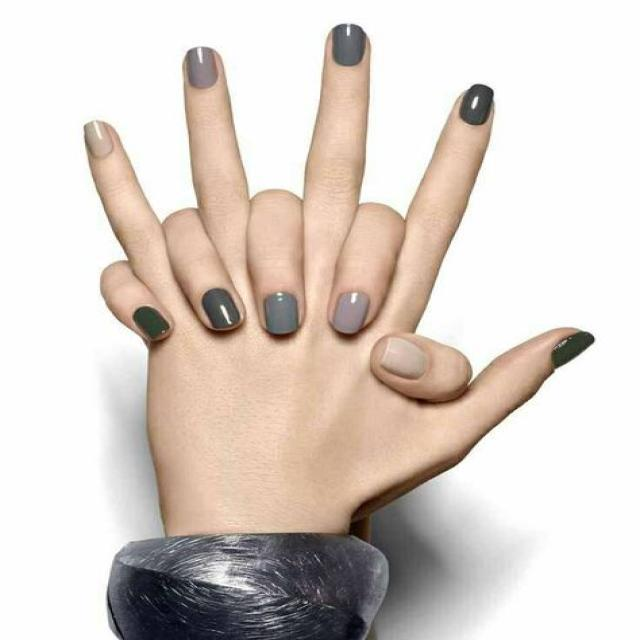Fingernail: (379, 337, 429, 379), (551, 331, 596, 369), (202, 288, 240, 329), (334, 291, 370, 334), (332, 23, 366, 67), (264, 292, 298, 334), (186, 46, 219, 89), (460, 84, 494, 125), (134, 306, 169, 341), (84, 122, 113, 157)
